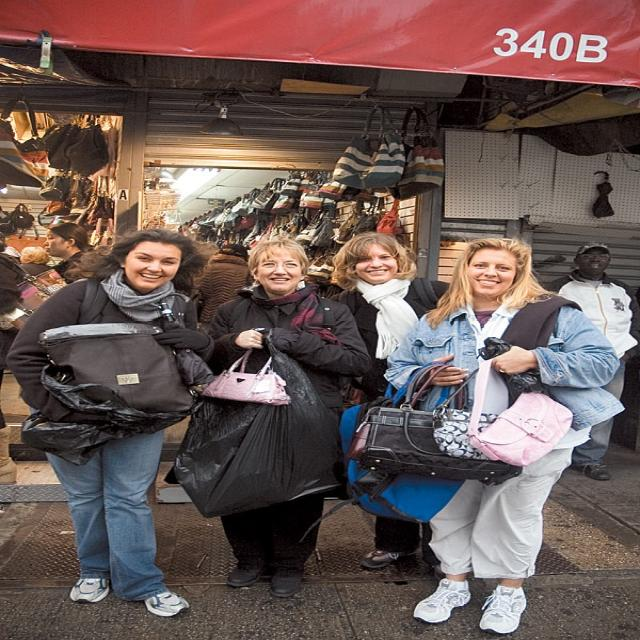body: (347, 238, 627, 632), (5, 225, 214, 618), (199, 240, 367, 596), (326, 233, 456, 577), (542, 242, 638, 480), (0, 233, 35, 487), (195, 243, 257, 325), (41, 220, 99, 284), (16, 246, 55, 276)
